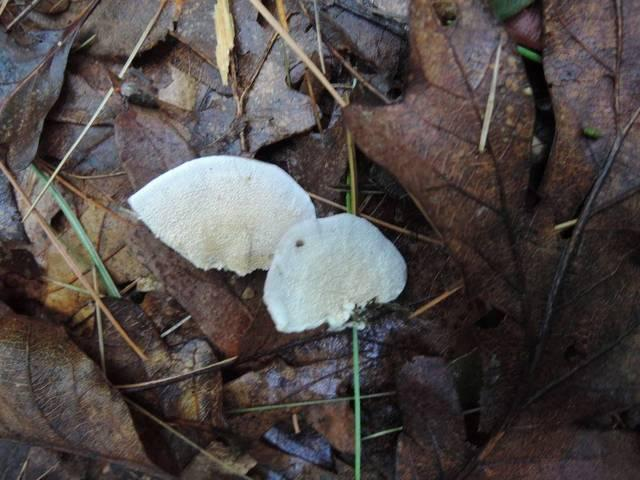poisonous_mushroom: (126, 153, 317, 277), (261, 211, 408, 334)
